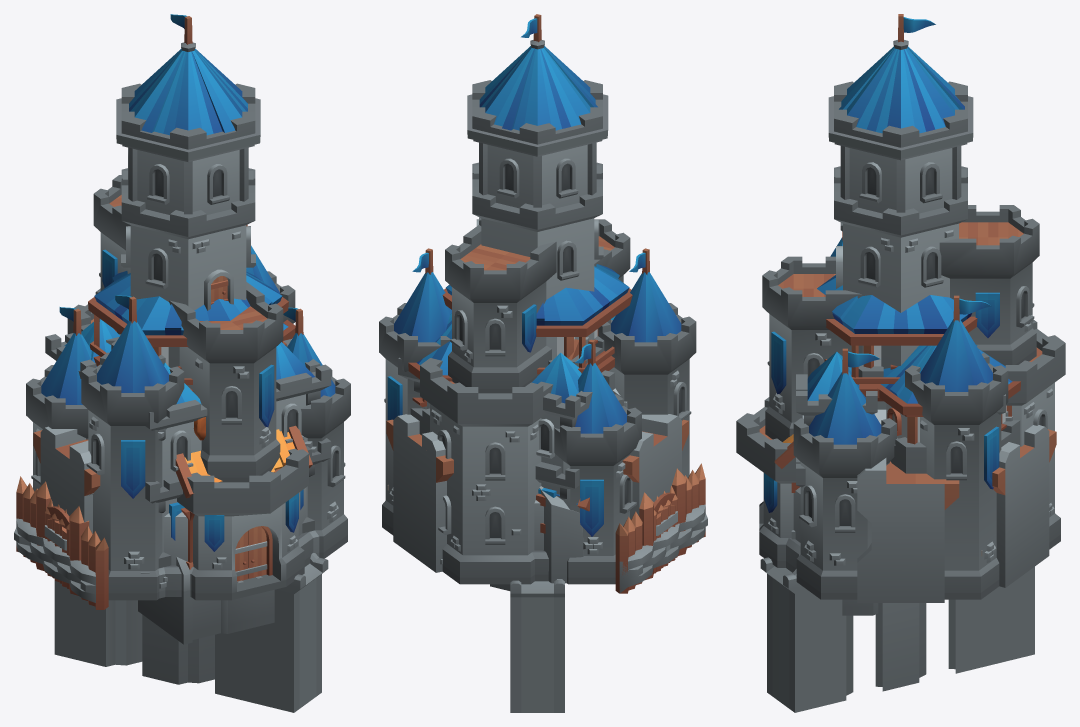
The model's file is town.glb.
3 renders of one model, left to right at view 1: azimuth 30°, elevation 25°; view 2: azimuth 150°, elevation 25°; view 3: azimuth 270°, elevation 25°, orthographic. The views are drawn at different scales.
Visible parts, largest first — view 1: building_castle_blue, building_bridge_A, building_barracks_blue, building_watermill_yellow, building_tower_B_top_blue, wall_corner_A_inside, fence_stone_straight, fence_wood_straight, fence_wood_straight_gate, wall_corner_A_outside, fence_wood_straight_door; view 2: building_castle_blue, building_bridge_A, wall_corner_A_outside, wall_corner_A_inside, building_tower_B_top_blue, building_barracks_blue, fence_stone_straight, building_mine_yellow, fence_wood_straight, fence_wood_straight_gate, building_archeryrange_blue, fence_wood_straight_door; view 3: building_castle_blue, building_bridge_A, wall_straight, building_tower_B_top_blue, wall_straight_gate, building_archeryrange_blue, wall_corner_A_inside, wall_corner_A_outside, building_barracks_blue, building_watermill_yellow.
Boxes of the visible parts, <box> form: building_castle_blue: <box>26,14,350,600</box>; building_bridge_A: <box>54,553,328,712</box>; building_barracks_blue: <box>45,319,331,598</box>; building_watermill_yellow: <box>138,425,312,644</box>; building_tower_B_top_blue: <box>88,269,288,391</box>; wall_corner_A_inside: <box>40,426,100,533</box>; fence_stone_straight: <box>14,518,95,602</box>; fence_wood_straight: <box>16,476,105,609</box>; fence_wood_straight_gate: <box>35,481,108,609</box>; wall_corner_A_outside: <box>33,430,88,515</box>; fence_wood_straight_door: <box>44,518,66,587</box>; building_castle_blue: <box>379,14,696,584</box>; building_bridge_A: <box>510,579,564,712</box>; wall_corner_A_outside: <box>393,401,681,572</box>; wall_corner_A_inside: <box>386,419,688,572</box>; building_tower_B_top_blue: <box>442,264,632,374</box>; building_barracks_blue: <box>398,316,615,499</box>; fence_stone_straight: <box>619,504,707,593</box>; building_mine_yellow: <box>539,486,583,583</box>; fence_wood_straight: <box>619,463,705,593</box>; fence_wood_straight_gate: <box>615,468,704,593</box>; building_archeryrange_blue: <box>408,313,589,511</box>; fence_wood_straight_door: <box>656,504,677,571</box>; building_castle_blue: <box>736,14,1065,599</box>; building_bridge_A: <box>760,557,1034,712</box>; wall_straight: <box>857,458,959,602</box>; building_tower_B_top_blue: <box>817,275,977,401</box>; wall_straight_gate: <box>857,401,956,602</box>; building_archeryrange_blue: <box>872,344,1020,473</box>; wall_corner_A_inside: <box>992,425,1049,587</box>; wall_corner_A_outside: <box>999,429,1056,573</box>; building_barracks_blue: <box>796,351,1005,555</box>; building_watermill_yellow: <box>774,434,878,615</box>.
Size of the model in its own units: 2.1 by 4.98 by 2.26.
Materials: 1 (1 with a texture image).
